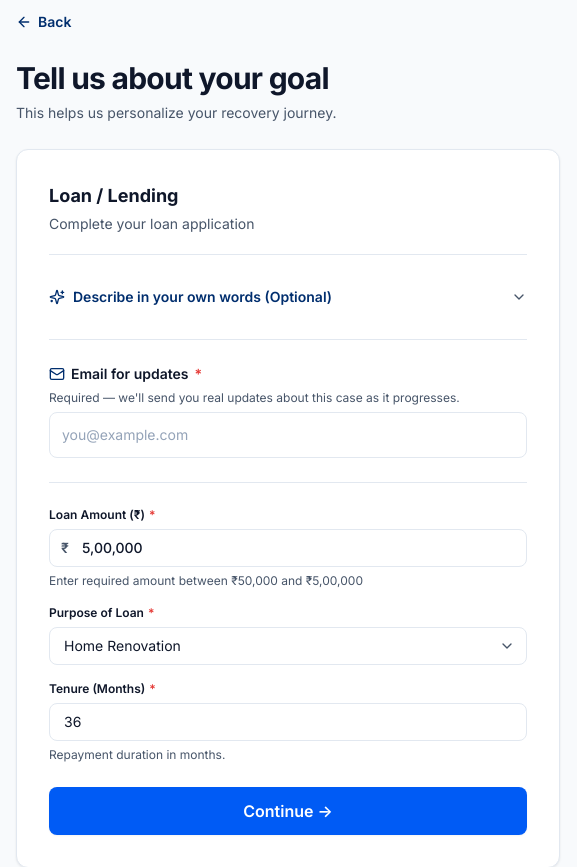
Scenario: Screen03GoalBasicInfo › toggles natural language progressive disclosure
Expected: the text "Describe in your own words (Optional)" is shown, [73,287,332,307]
Expected: the field with placeholder "Need a 5 lakh loan" is not shown
Click the button "Describe in your own words (Optional)": (288, 297) [49,279,527,315]
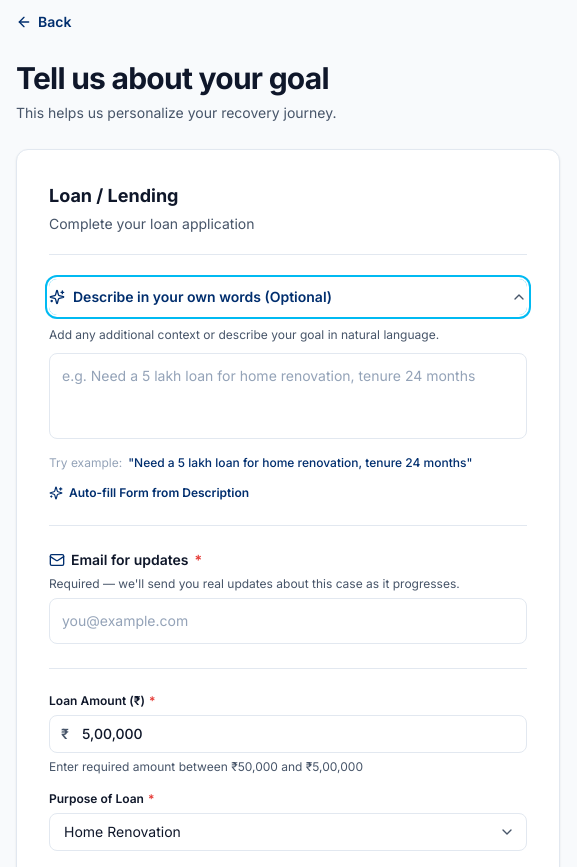
Result: the text box with placeholder "Need a 5 lakh loan" is shown
Type in description
In the text box with placeholder "Need a 5 lakh loan": (288, 396) [49,353,527,439], type "Looking for 500000 for medical expense"
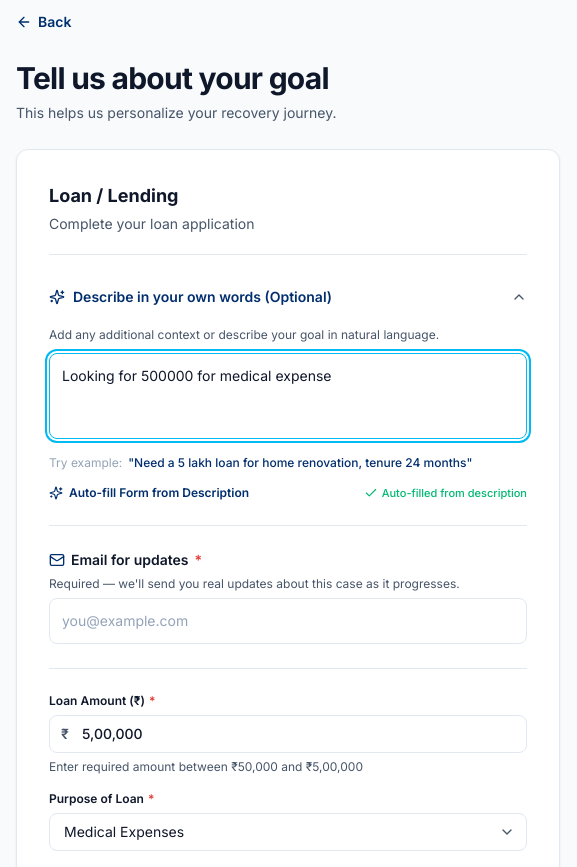
Click the button "Describe in your own words (Optional)": (288, 297) [49,279,527,315]
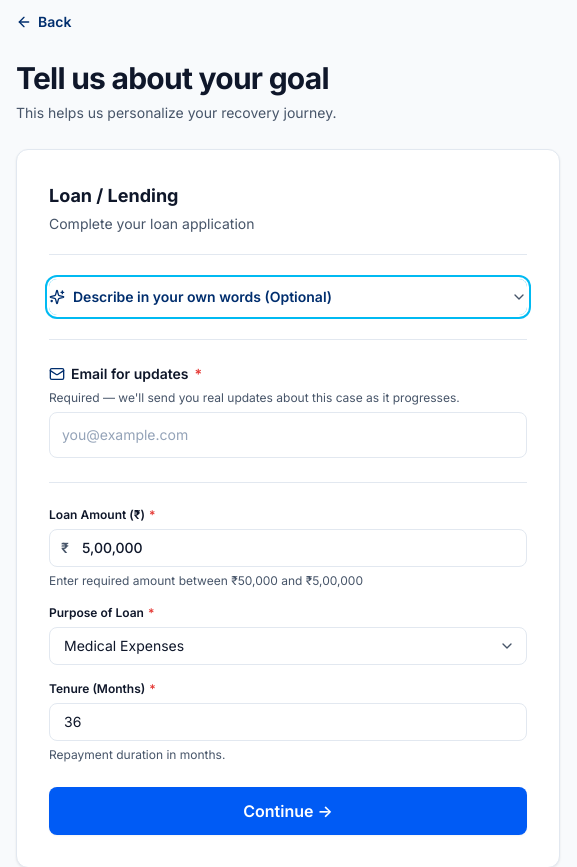
Result: the button with placeholder "Need a 5 lakh loan" is gone
